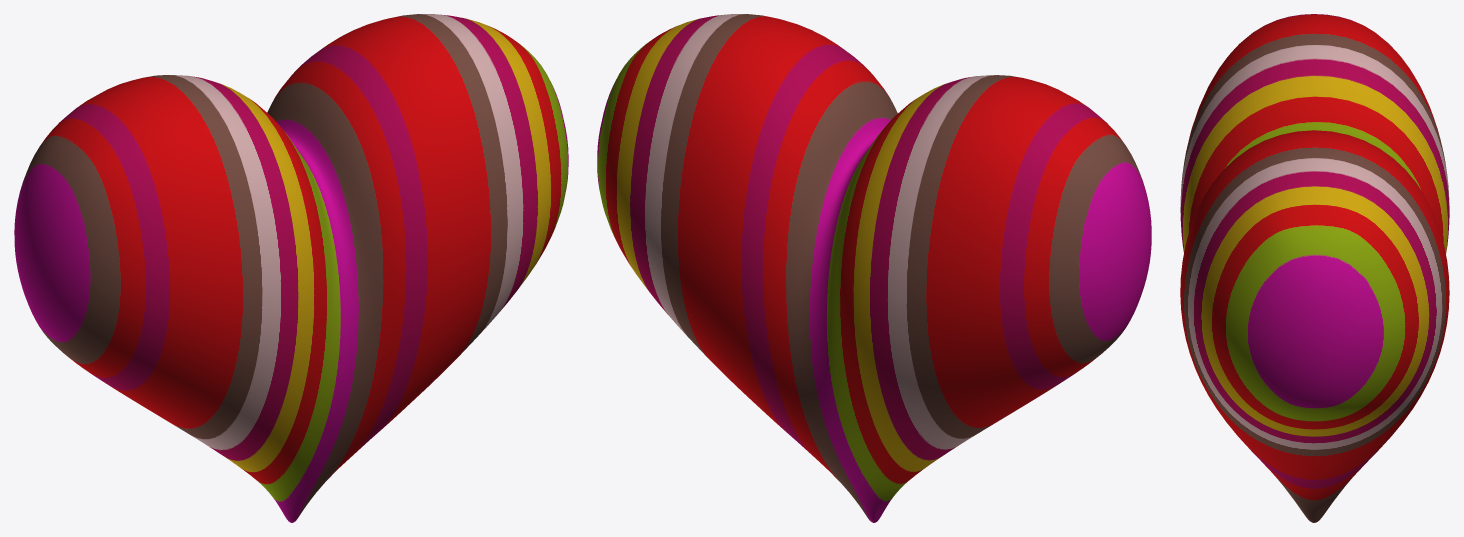
The model's file is B-9_Onstick.fbx.
3 views of the same model, side by side, from view 1: azimuth 30°, elevation 25°; view 2: azimuth 150°, elevation 25°; view 3: azimuth 270°, elevation 25° (orthographic). The views are drawn at different scales.
Parts seen in each view (by area): view 1: B-9; view 2: B-9; view 3: B-9.
Boxes of the visible parts, <box> form: B-9: <box>14,14,568,522</box>; B-9: <box>597,14,1151,522</box>; B-9: <box>1180,14,1449,522</box>.
Bounding box in the file's own units: 124 × 59.18 × 106.
